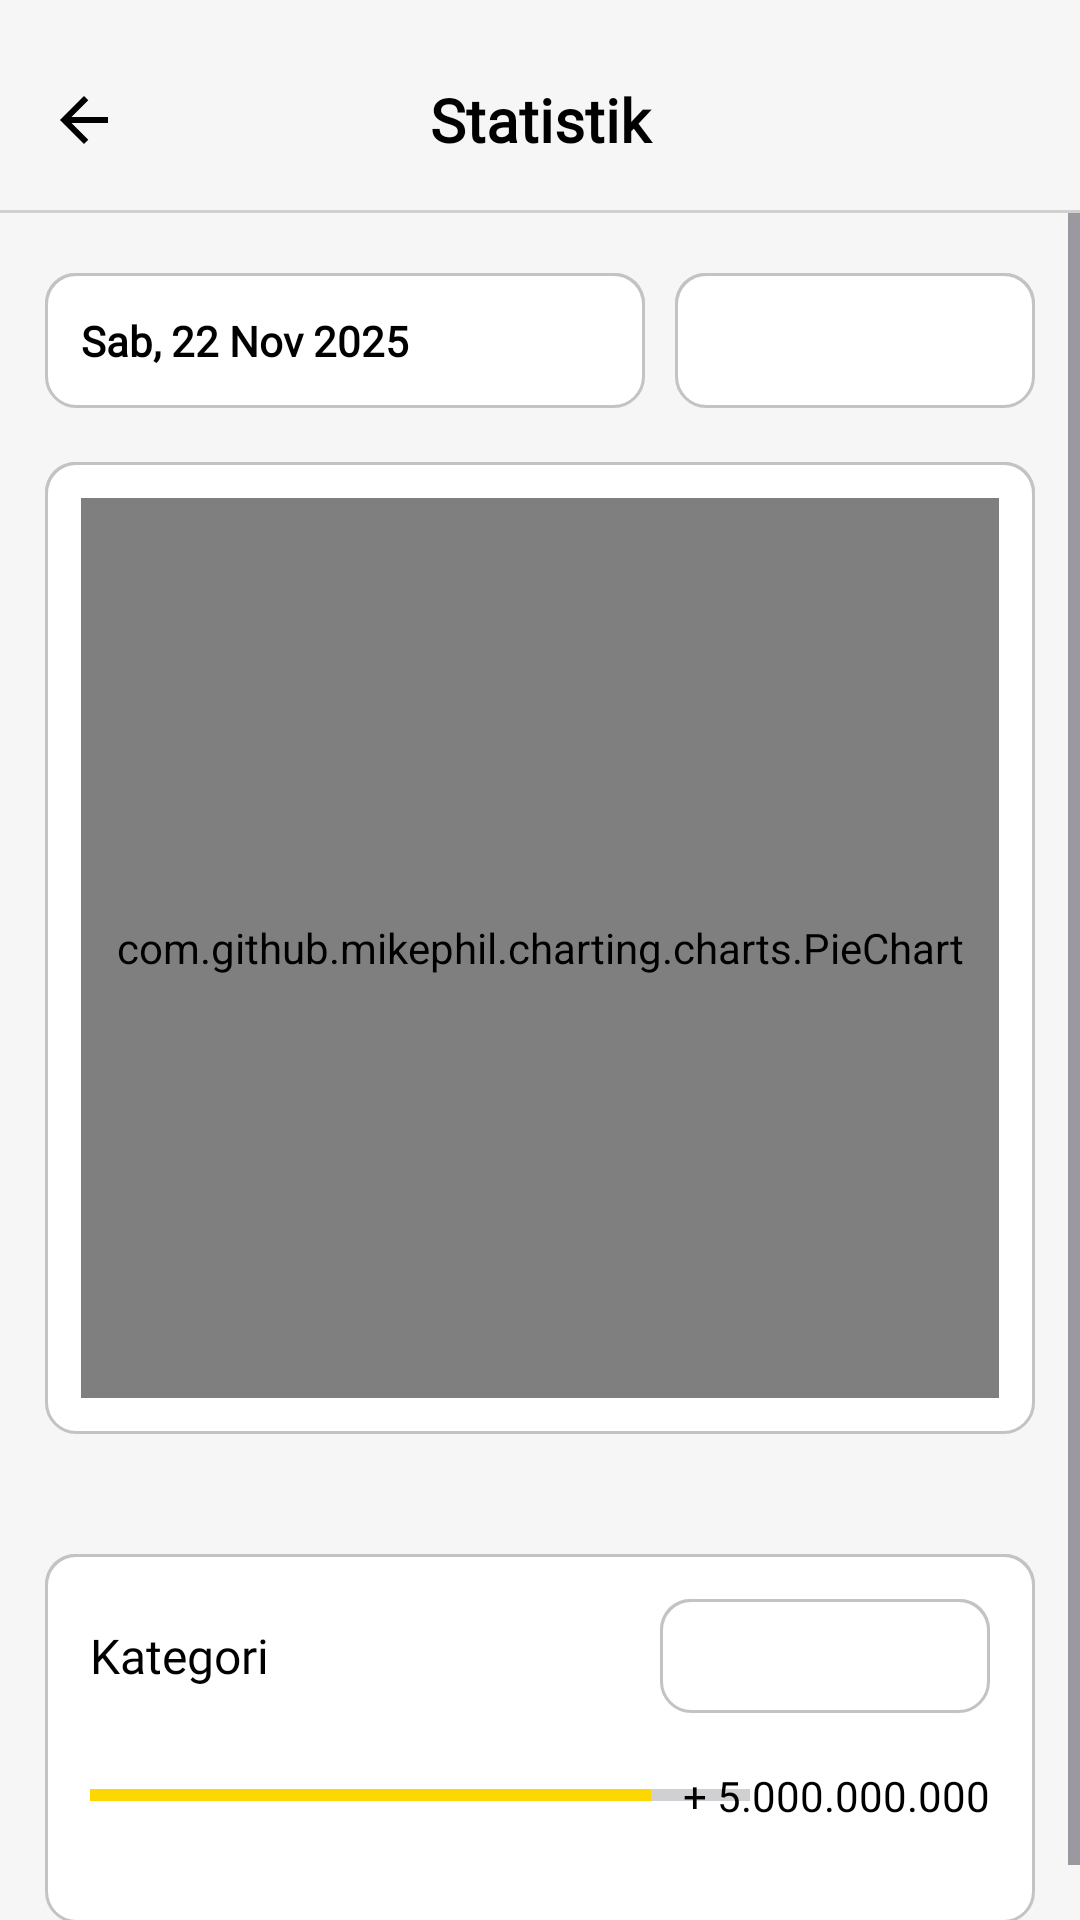

Named icons in this screenshot (1080×1920) and their centers, [x,y]:
arrow: [84,120]
